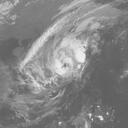cyclone: (48, 37, 87, 81)
